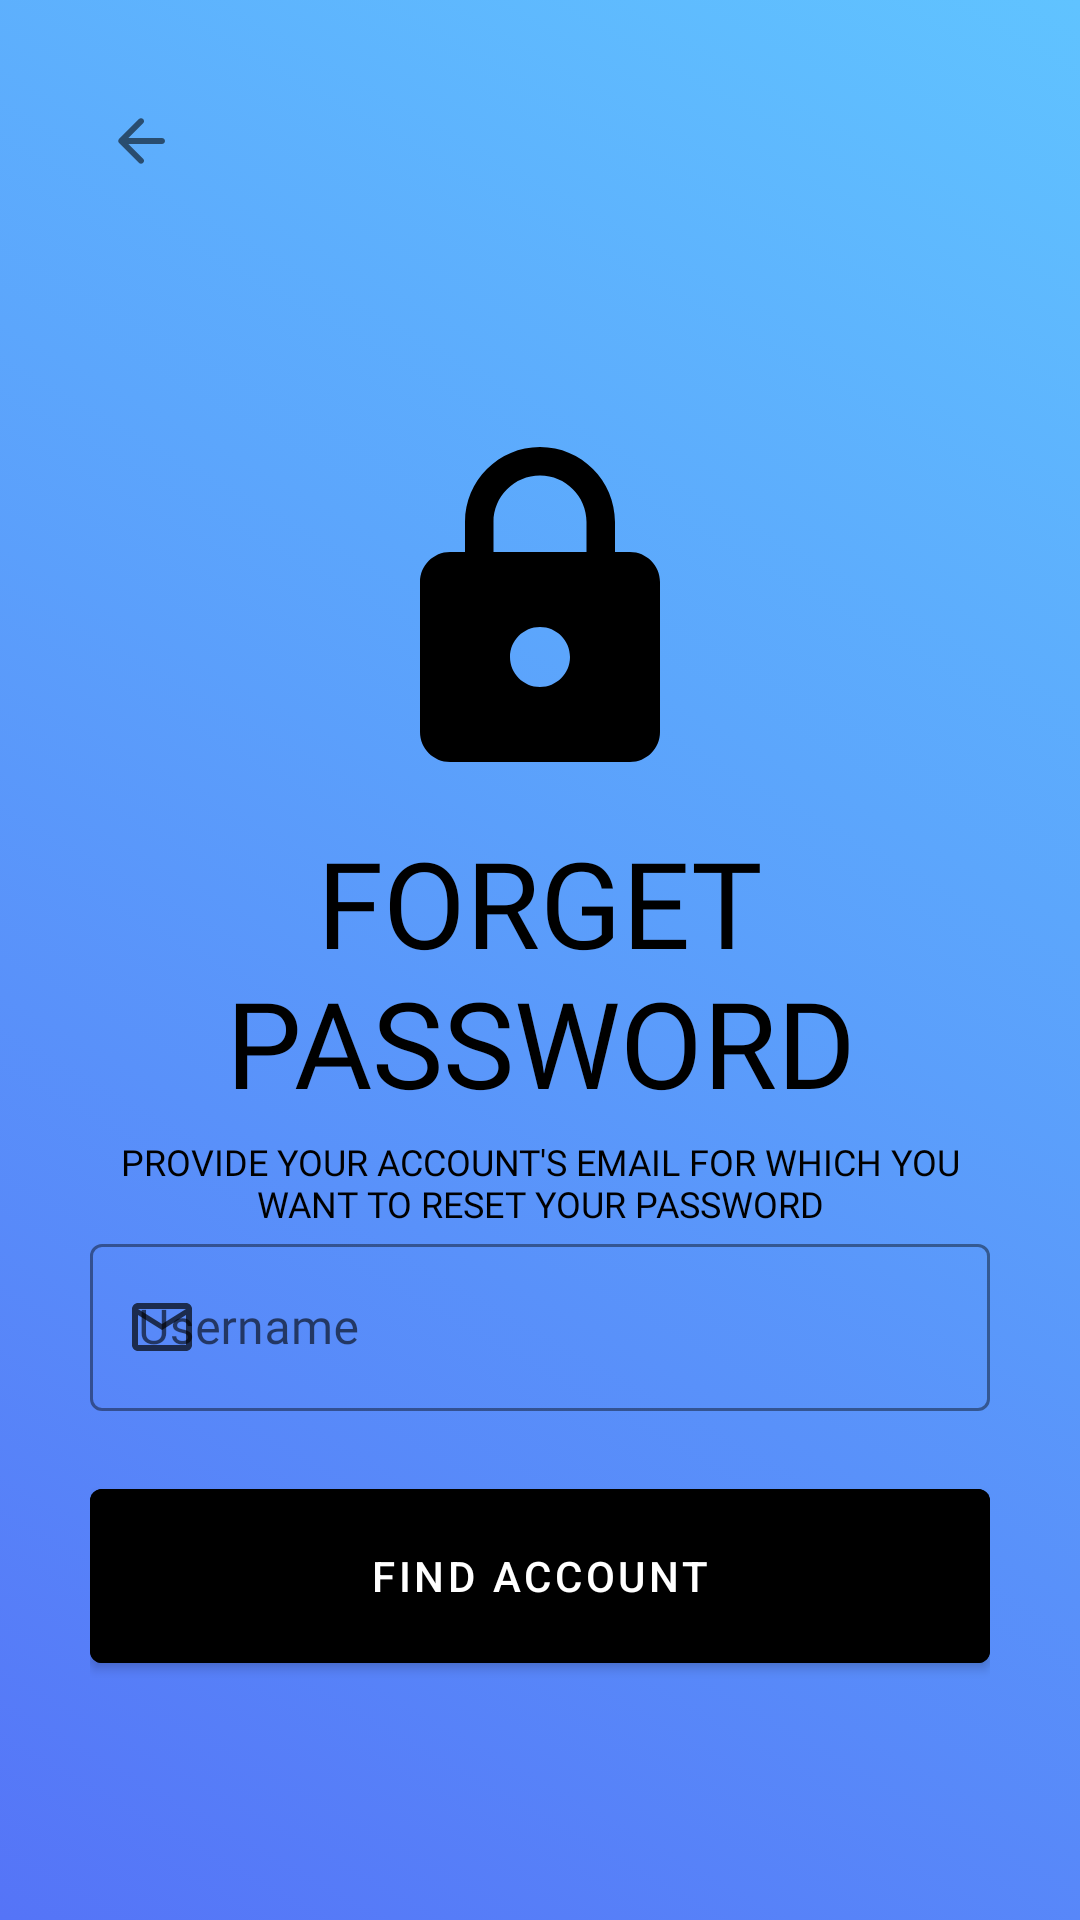

Icon click points for this 1080*1920 phone screenshot, format [x,y]:
back: [141,141]
lock: [540,604]
